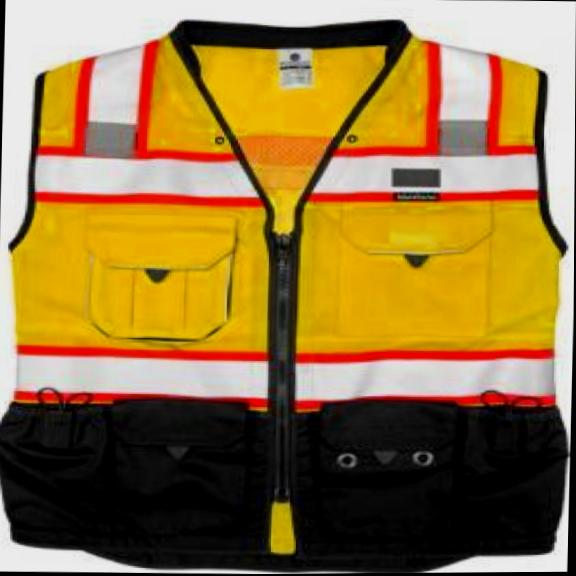safety_vest: (0, 3, 576, 576)
